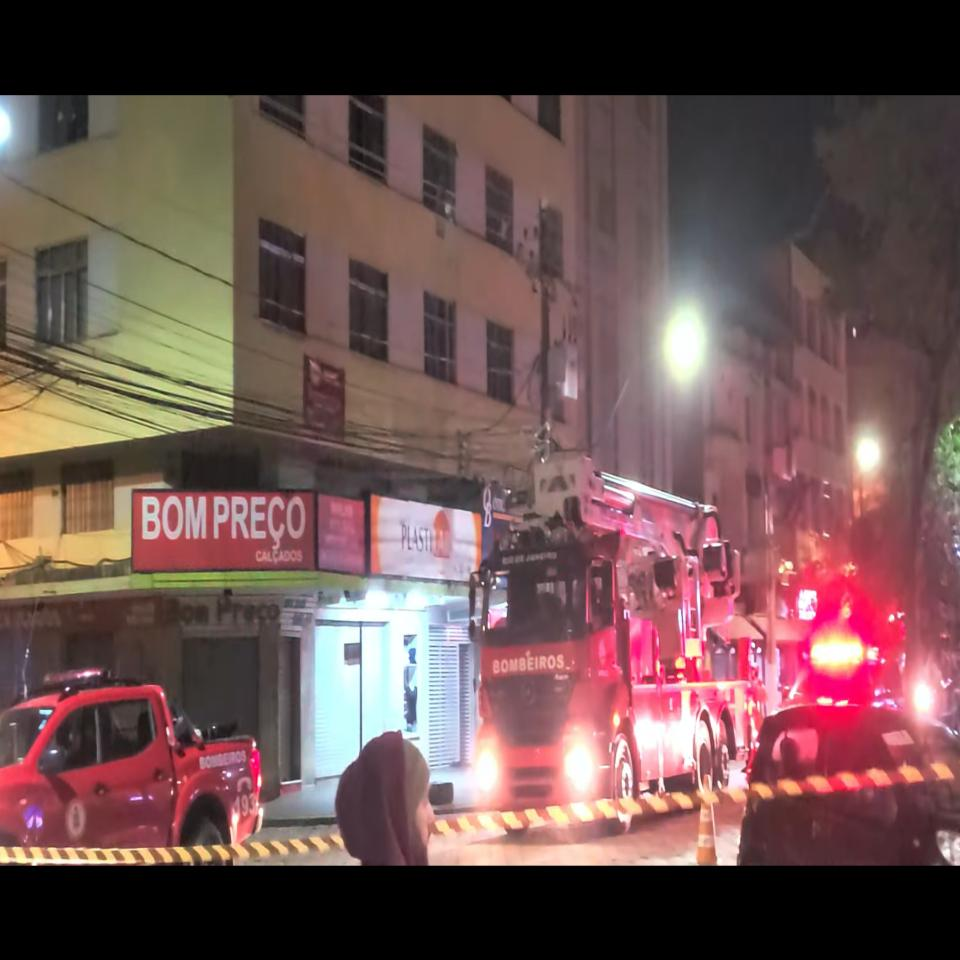viatura: (468, 468, 753, 810)
